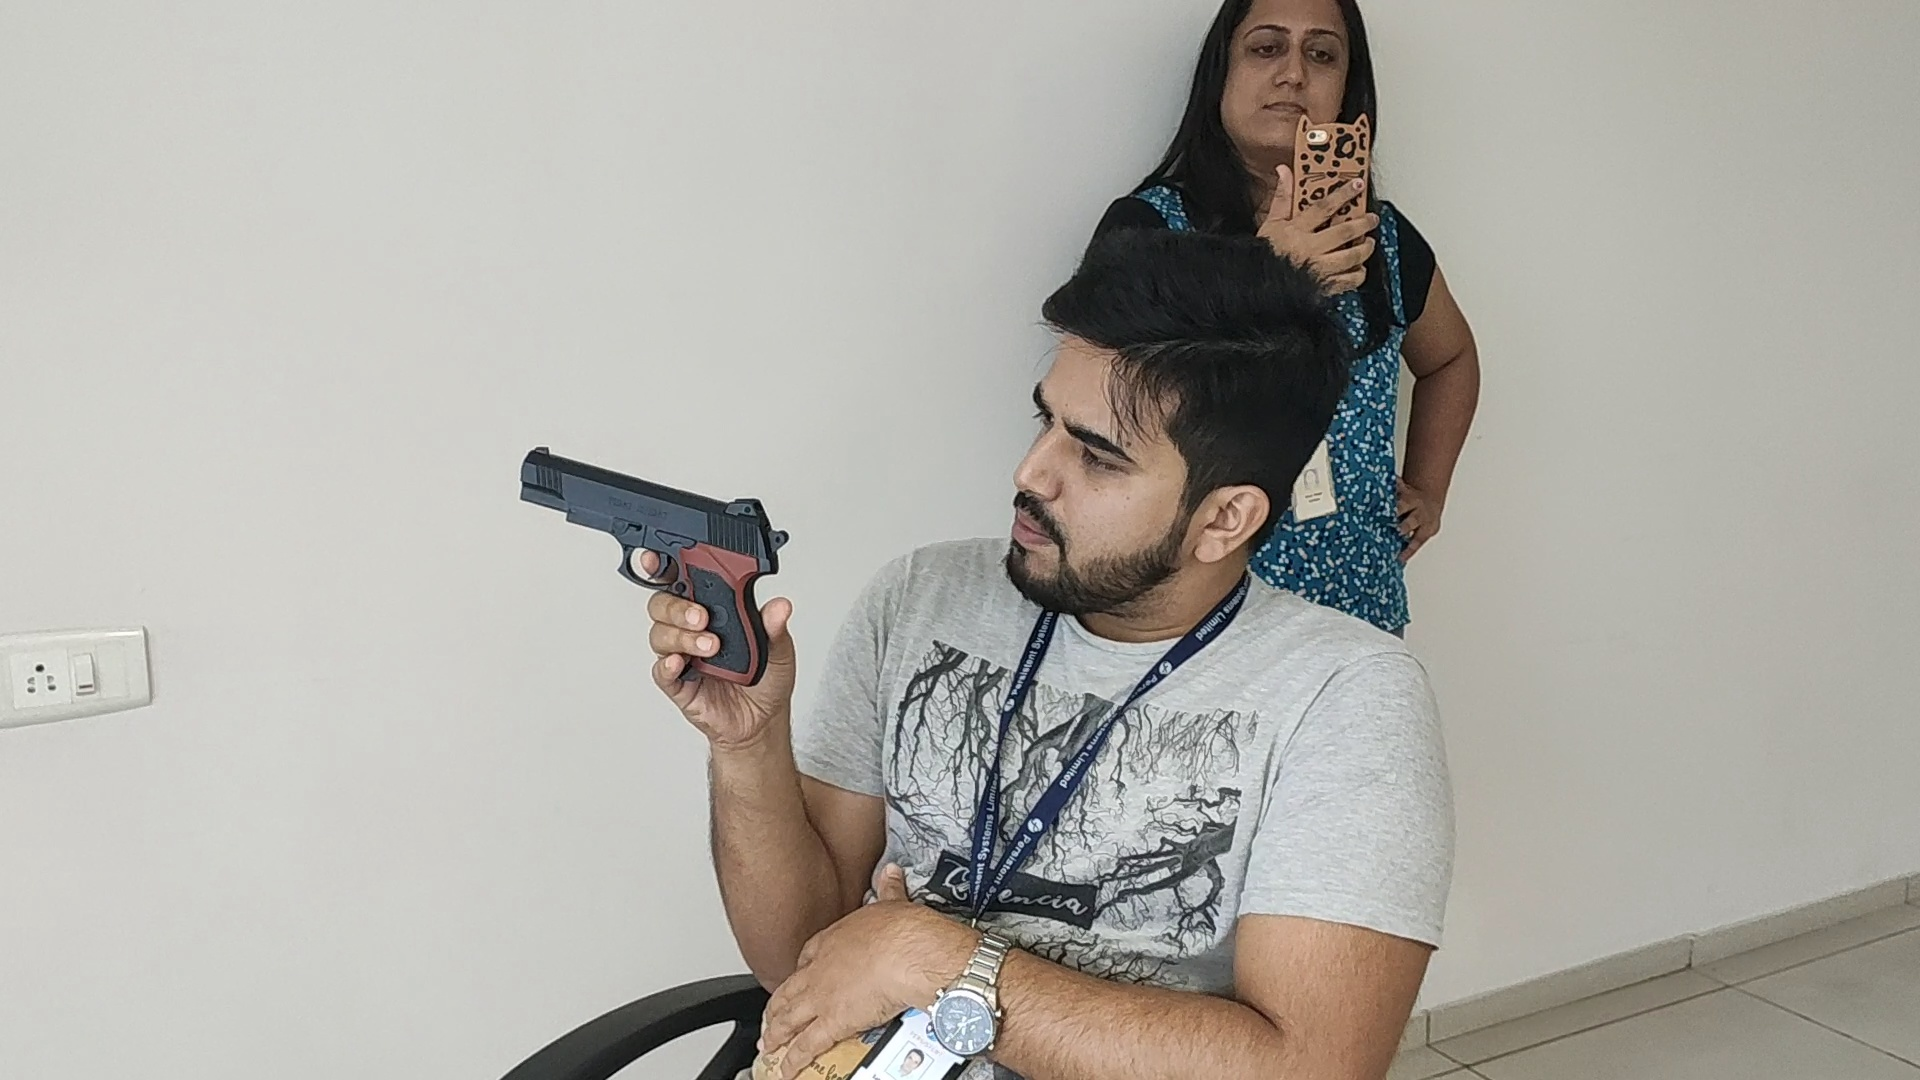gun: (520, 446, 791, 589)
